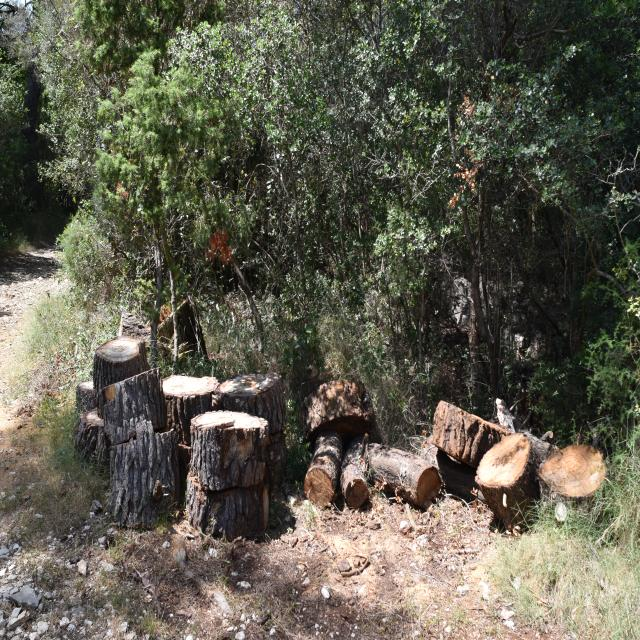restos de madeira: (429, 395, 608, 537), (302, 374, 430, 516), (98, 372, 184, 529), (181, 409, 274, 552), (215, 369, 286, 430), (93, 338, 151, 404), (160, 375, 218, 439), (303, 429, 343, 511), (75, 380, 100, 459)
